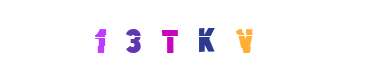1: (80, 0, 160, 80)
3: (130, 0, 210, 80)
K: (142, 0, 222, 80)
T: (135, 0, 215, 80)
V: (205, 0, 285, 80)
